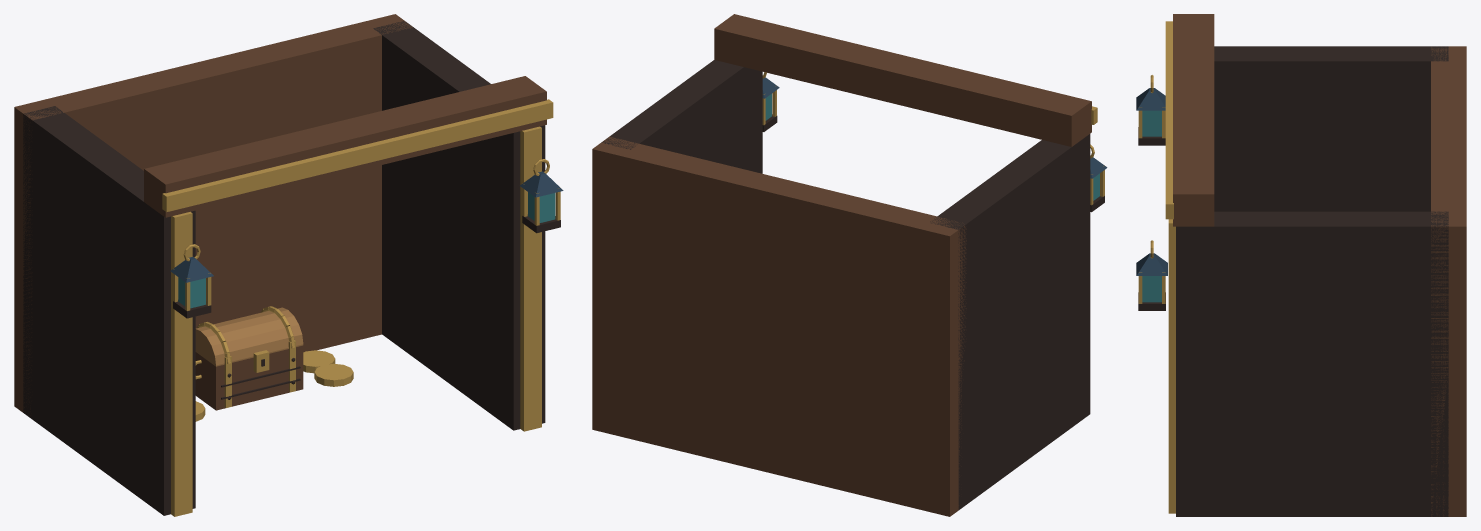
Rendered from PirateCove_TreasureAlcove_Showcase.glb.
3 views of the same model, side by side, from view 1: azimuth 30°, elevation 25°; view 2: azimuth 150°, elevation 25°; view 3: azimuth 270°, elevation 25° (orthographic). The views are drawn at different scales.
Visible parts, largest first — view 1: PirateCove_TreasureAlcove_Showcase; view 2: PirateCove_TreasureAlcove_Showcase; view 3: PirateCove_TreasureAlcove_Showcase.
Part boxes in pixels (<box>): PirateCove_TreasureAlcove_Showcase: <box>14,14,563,516</box>; PirateCove_TreasureAlcove_Showcase: <box>592,14,1107,516</box>; PirateCove_TreasureAlcove_Showcase: <box>1136,14,1466,516</box>.
Size of the model in its own units: 3.65 by 3 by 2.78.
